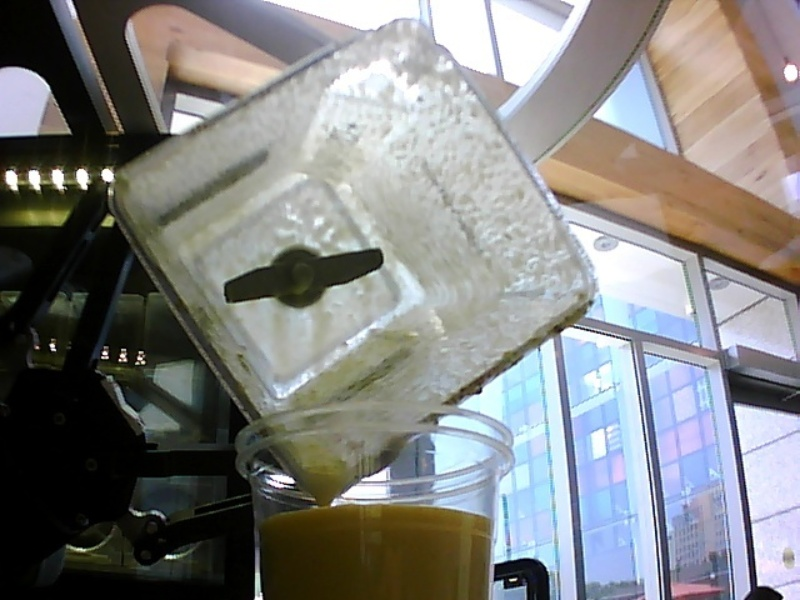cup: (225, 402, 519, 594)
limit: (251, 494, 496, 532)
